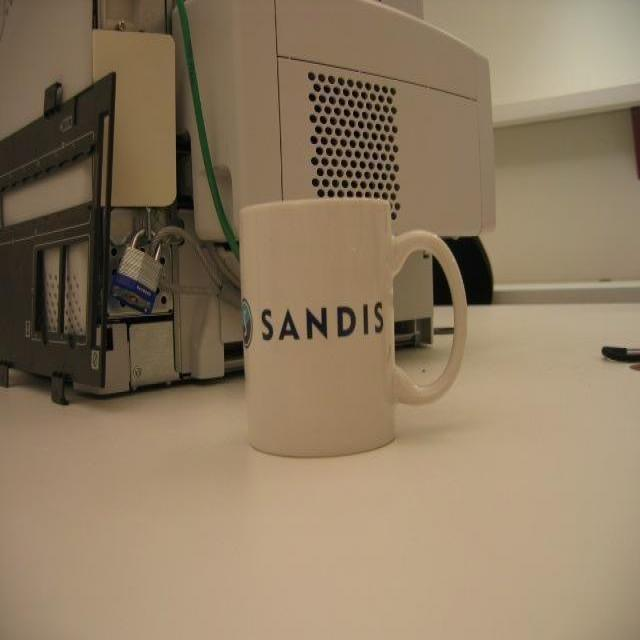cup-handle: (237, 196, 467, 459)
